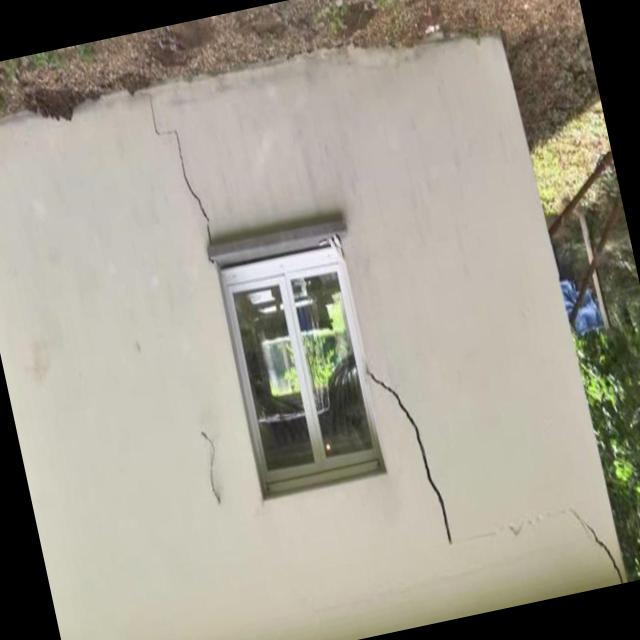crack: (365, 366, 456, 549), (146, 90, 214, 257), (491, 506, 625, 583)
